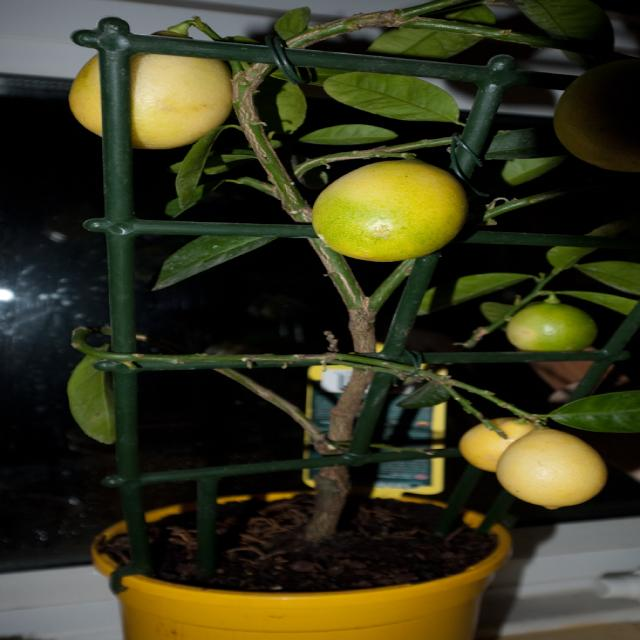Lemon: (69, 27, 233, 150), (313, 157, 469, 264), (558, 54, 639, 172), (500, 428, 610, 508), (508, 303, 600, 353), (462, 416, 533, 472)
